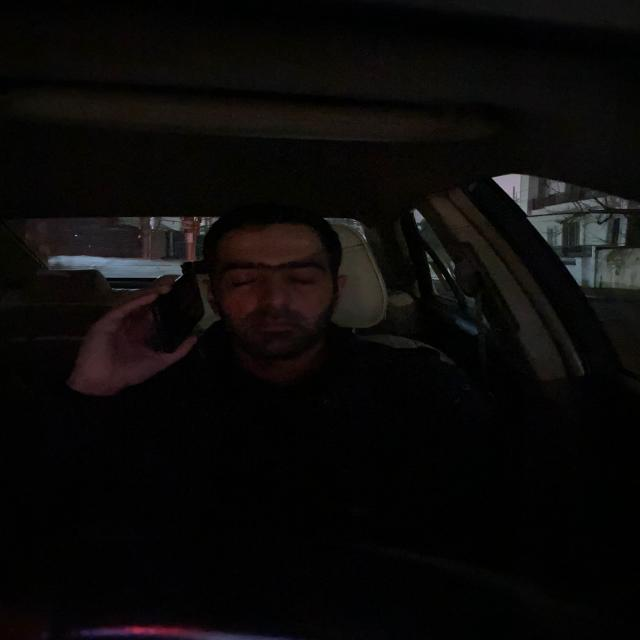mobile: (134, 276, 212, 363)
person: (201, 200, 364, 366)
